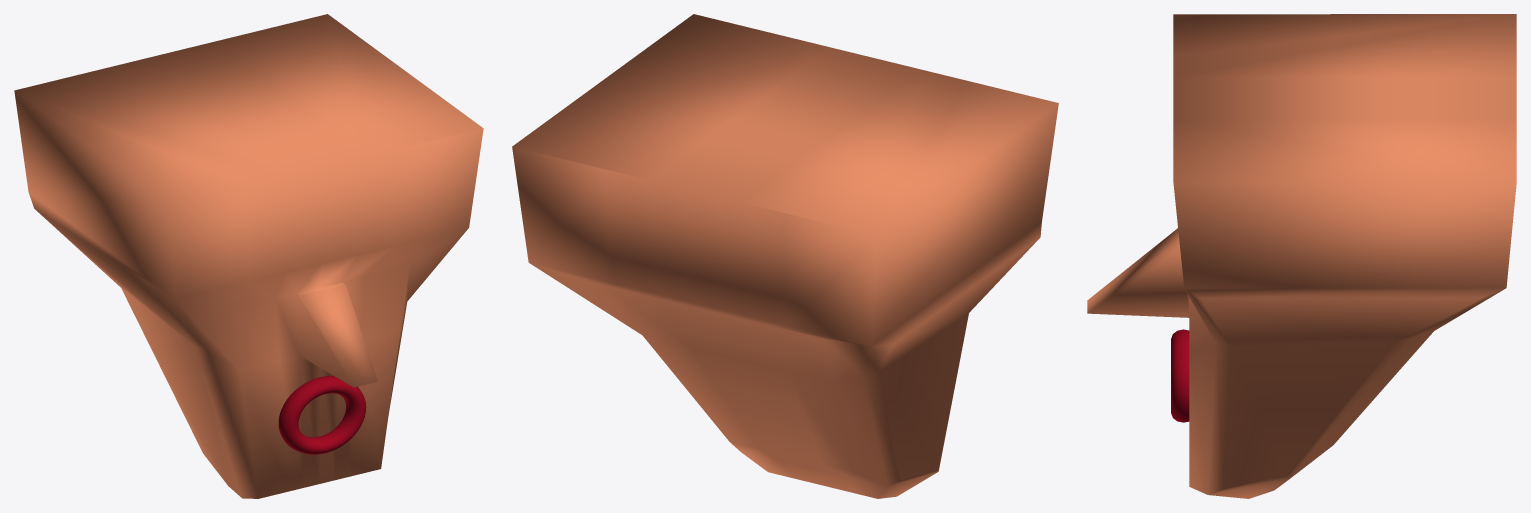
File: translate_mouth.gltf
3 views of the same model, side by side, from view 1: azimuth 30°, elevation 25°; view 2: azimuth 150°, elevation 25°; view 3: azimuth 270°, elevation 25° (orthographic). The views are drawn at different scales.
Parts seen in each view (by area): view 1: Cube, トーラス; view 2: Cube; view 3: Cube, トーラス.
Boxes of the visible parts, x1,y1,x2,y2 form: Cube: (14,14,483,498); トーラス: (278,376,366,454); Cube: (512,14,1058,498); Cube: (1087,14,1516,498); トーラス: (1171,329,1189,422).
Size of the model in its own units: 4.76 by 4.91 by 5.13.
